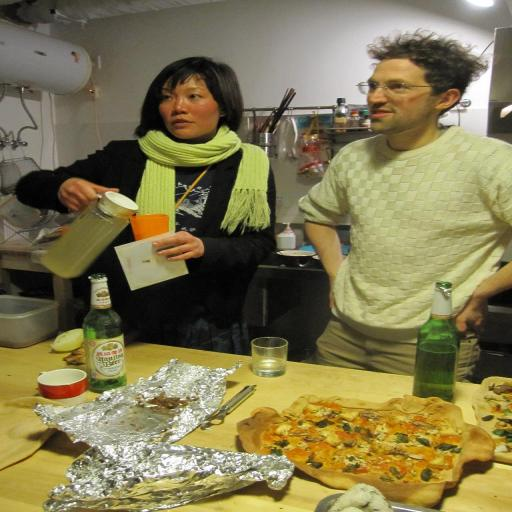Person: (289, 33, 502, 366), (69, 29, 282, 362)
no_gloves: (392, 299, 446, 339), (168, 227, 222, 267), (106, 177, 160, 217)
no_goggle: (179, 89, 233, 102), (331, 82, 386, 94)
no_helmet: (348, 32, 416, 76), (172, 46, 240, 90)
none: (126, 139, 263, 299), (318, 145, 442, 305)
